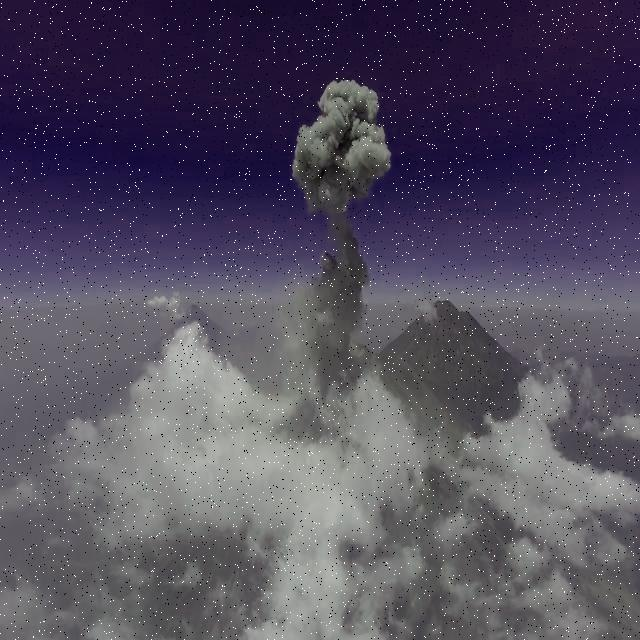Plume: (290, 72, 392, 214), (296, 212, 372, 373)
